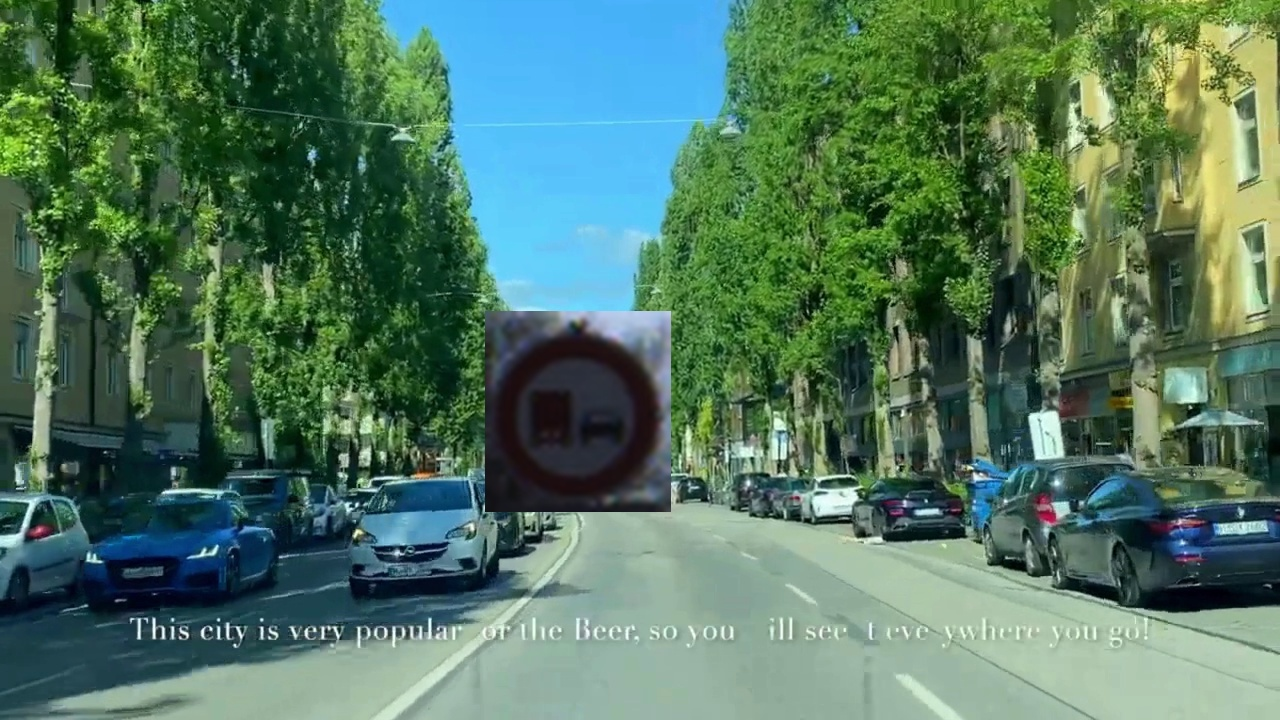No pass >3.5t: (485, 311, 671, 512)
